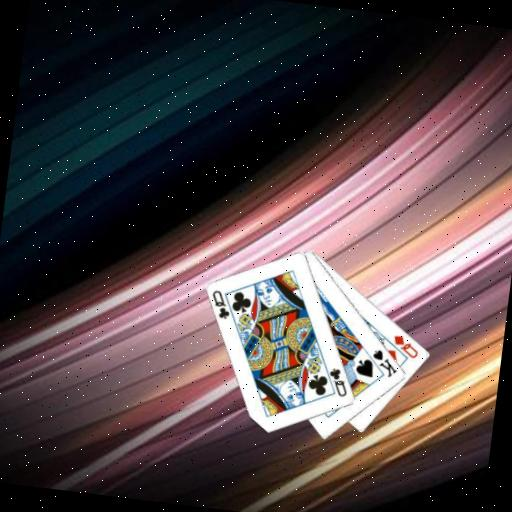KS: (368, 346, 402, 381)
QC: (324, 365, 352, 400), (207, 286, 235, 321)
QD: (389, 332, 422, 361)
